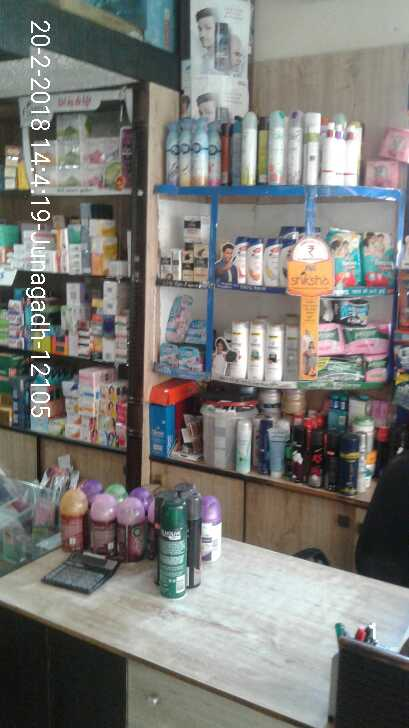ambipureVesus: (193, 117, 208, 186), (179, 117, 193, 187), (208, 119, 221, 186), (166, 121, 179, 187)
venus: (168, 294, 184, 338), (178, 346, 204, 367), (186, 319, 206, 343), (159, 342, 178, 367)
